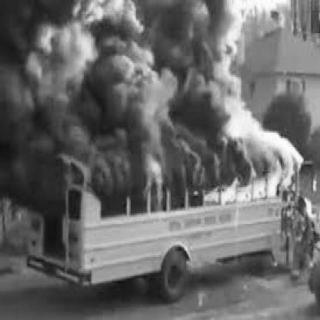Smoke: (0, 0, 300, 174)
